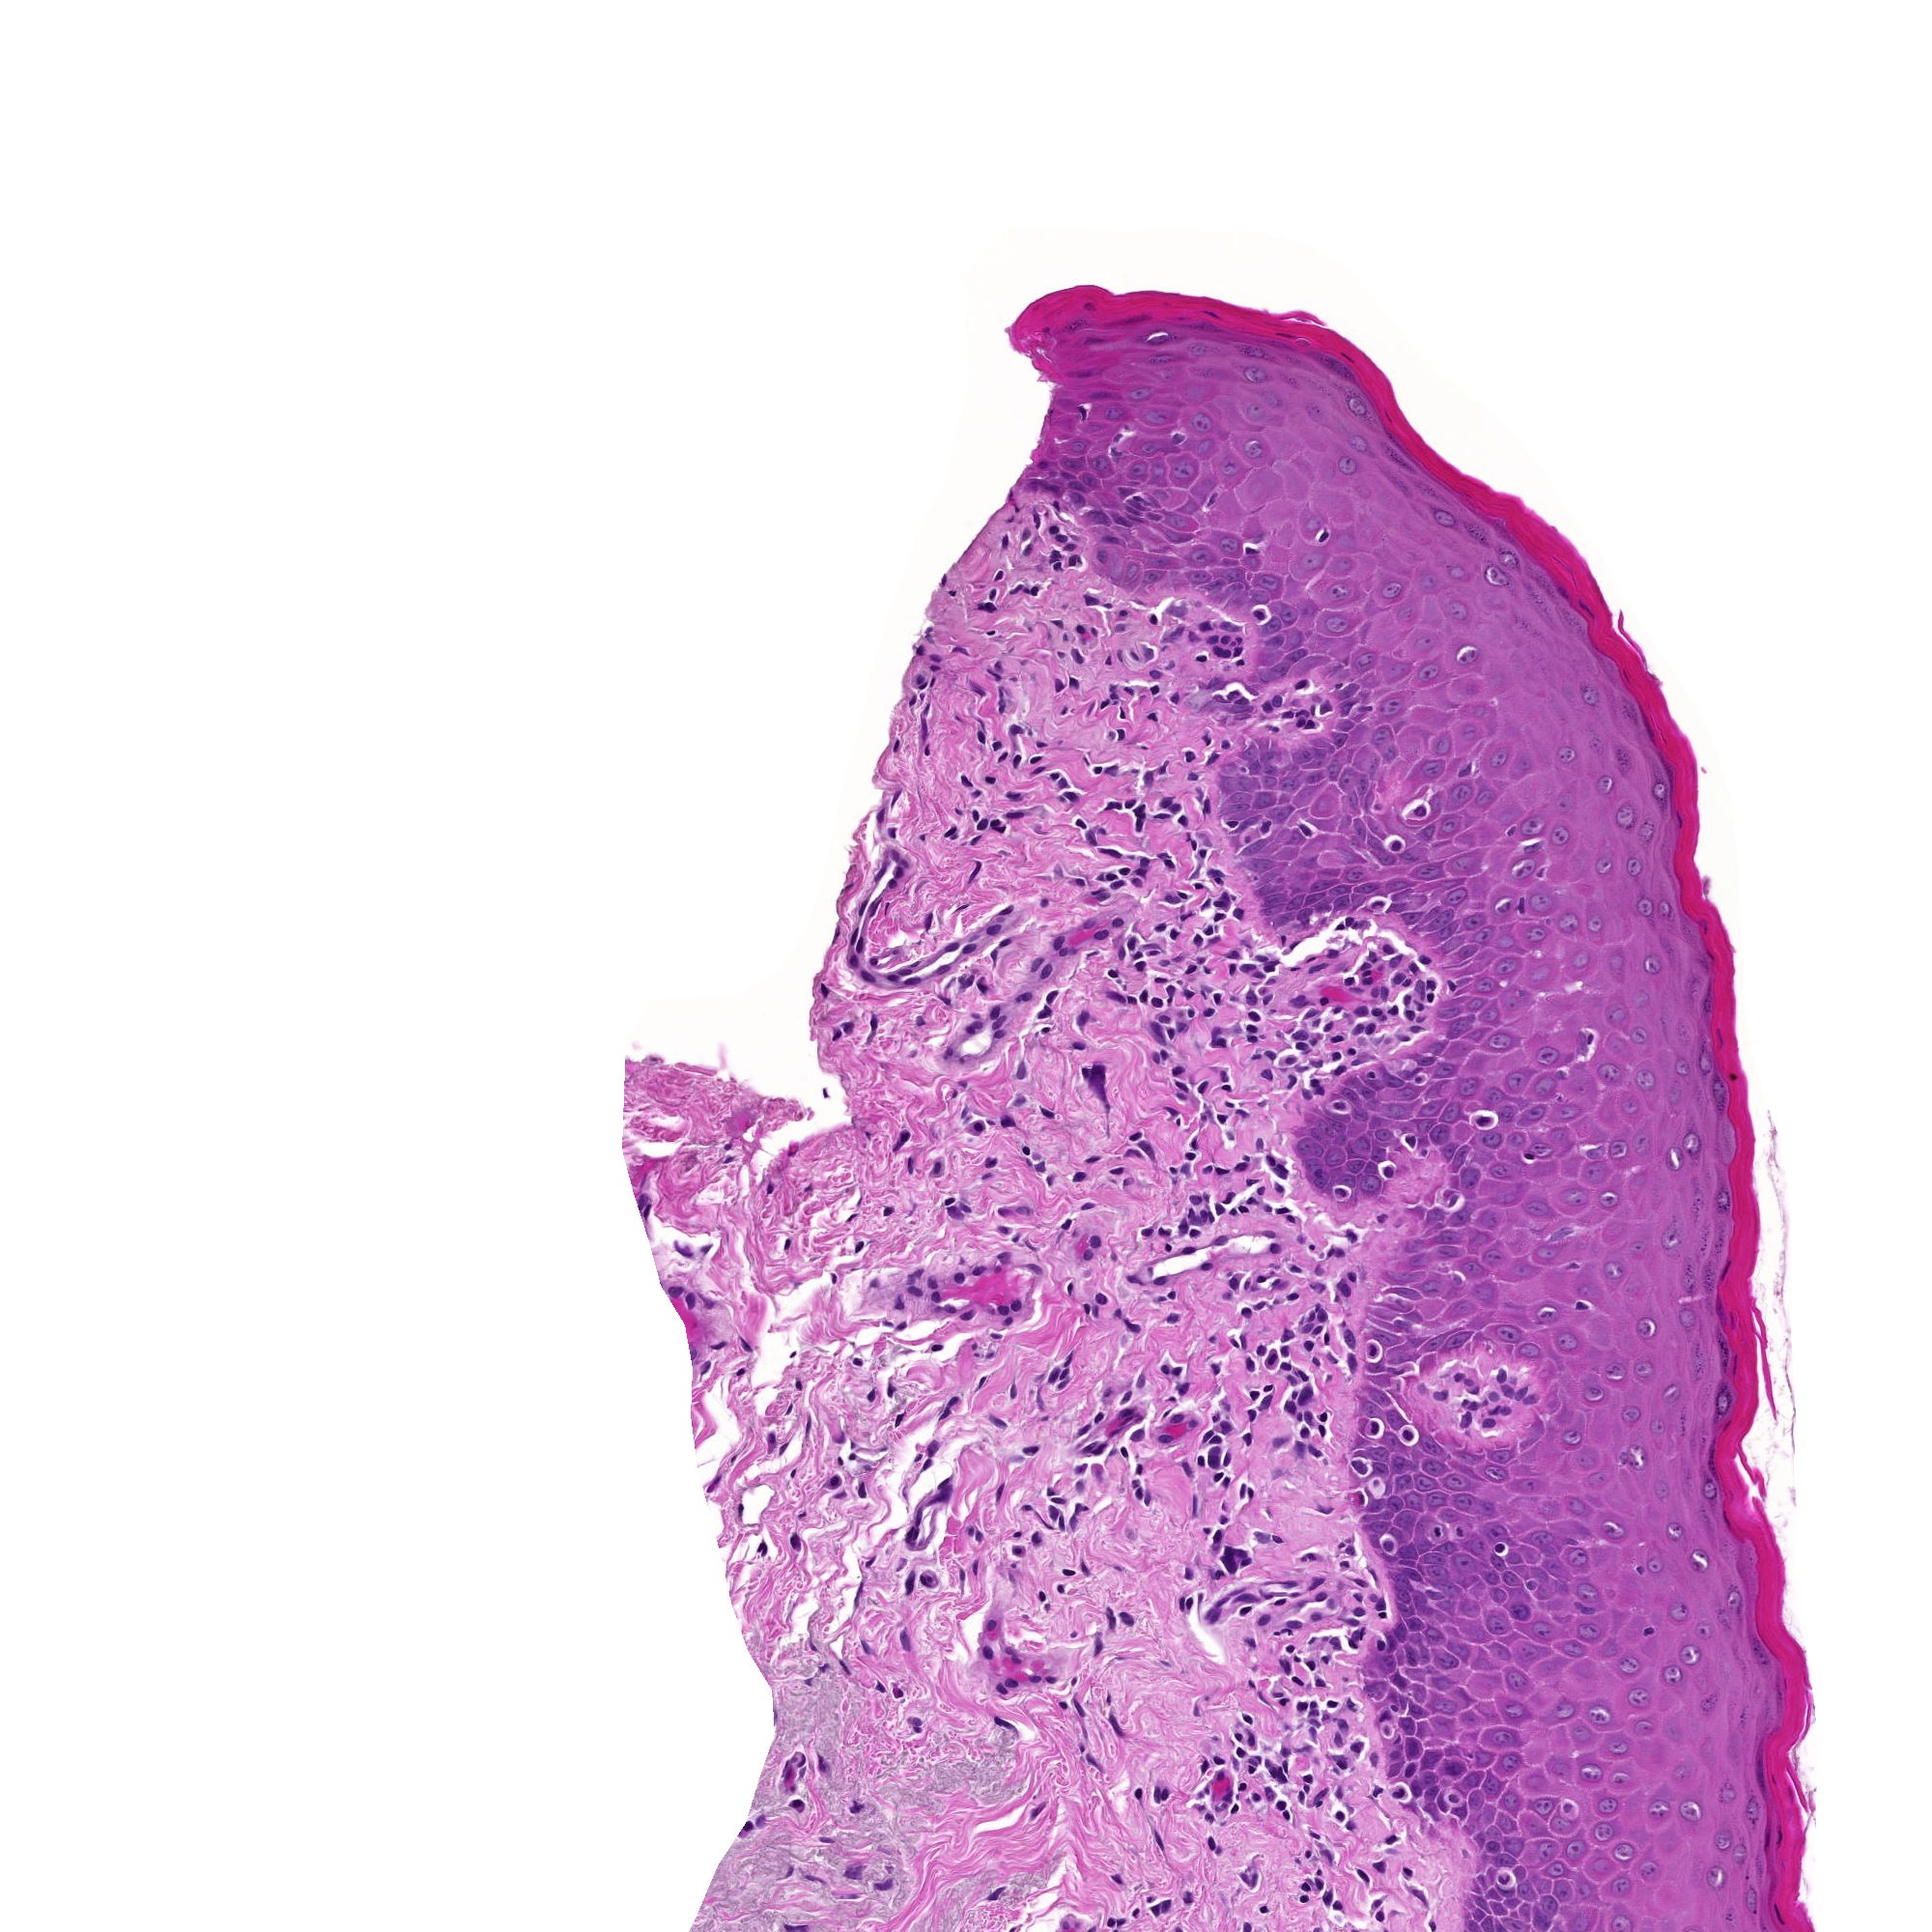epithelial: (1343, 816, 1376, 847), (1707, 1185, 1739, 1219), (1058, 310, 1090, 341), (1141, 324, 1173, 356), (1115, 306, 1146, 338), (1329, 356, 1361, 387), (1378, 428, 1410, 460), (1100, 439, 1132, 471), (1152, 322, 1184, 354), (1120, 456, 1152, 488), (1083, 448, 1115, 479), (1100, 398, 1132, 430), (1120, 488, 1152, 520), (1414, 855, 1445, 886), (1332, 676, 1364, 708), (1330, 686, 1362, 718), (1307, 518, 1339, 550), (1235, 536, 1267, 568), (1086, 540, 1118, 571), (1221, 807, 1253, 839), (1403, 794, 1435, 826), (1300, 885, 1332, 916), (1300, 738, 1332, 770), (1412, 656, 1444, 688), (1265, 653, 1297, 685), (980, 655, 1012, 686), (1384, 872, 1415, 904), (1353, 1069, 1385, 1100), (1419, 1200, 1451, 1231), (1398, 1058, 1430, 1090), (1384, 1067, 1415, 1099), (1391, 1276, 1422, 1307), (1392, 1706, 1424, 1737), (1384, 1615, 1415, 1647), (1401, 1773, 1433, 1805), (1394, 1559, 1426, 1591), (1412, 1766, 1444, 1798), (1343, 1451, 1375, 1483), (1407, 1587, 1438, 1619), (1362, 1509, 1394, 1541), (1401, 1534, 1433, 1566), (1506, 890, 1537, 922), (1461, 518, 1493, 550), (1468, 780, 1500, 812), (1691, 989, 1723, 1021), (1442, 1138, 1474, 1169), (1518, 1097, 1550, 1129), (1514, 1138, 1546, 1169), (1716, 1062, 1748, 1093), (1677, 1136, 1709, 1168), (1500, 1063, 1532, 1095), (1601, 1131, 1633, 1162), (1679, 1125, 1711, 1157), (1744, 1759, 1776, 1790), (1746, 1640, 1778, 1672), (1695, 1468, 1727, 1500), (1481, 1546, 1513, 1578), (1447, 1484, 1479, 1516), (1560, 1833, 1592, 1865), (1228, 692, 1258, 725), (1403, 1592, 1433, 1626), (837, 1856, 867, 1888), (888, 1624, 920, 1654), (771, 1757, 803, 1787), (1318, 349, 1348, 380), (1065, 396, 1097, 426), (1058, 448, 1088, 479), (1077, 324, 1108, 356), (1069, 464, 1100, 494), (1037, 396, 1067, 428), (1309, 345, 1341, 375), (1021, 464, 1051, 495), (1233, 334, 1265, 364), (1242, 433, 1272, 465), (1058, 464, 1090, 494), (1063, 432, 1095, 462), (1373, 421, 1405, 451), (1224, 685, 1254, 717), (1353, 874, 1385, 904), (1095, 522, 1125, 554), (1412, 816, 1442, 847), (1415, 754, 1447, 784), (1185, 541, 1217, 571), (1327, 886, 1357, 918), (1139, 559, 1169, 591), (1044, 929, 1074, 961), (1261, 625, 1292, 656), (1281, 639, 1311, 671), (1217, 679, 1247, 711), (1145, 547, 1175, 579), (1378, 690, 1408, 722), (1254, 740, 1284, 771), (1238, 832, 1269, 863), (1256, 610, 1288, 640), (1212, 529, 1244, 559), (1369, 839, 1401, 869), (1254, 885, 1286, 915), (1253, 755, 1284, 786), (1366, 720, 1398, 750), (1270, 600, 1302, 630), (1267, 798, 1299, 828), (1246, 847, 1276, 879), (1231, 807, 1263, 837), (1095, 502, 1125, 534), (1307, 869, 1339, 899), (1421, 899, 1451, 931), (1304, 1162, 1336, 1192), (1378, 1403, 1410, 1433), (1320, 1106, 1350, 1138), (1421, 1118, 1453, 1148), (1415, 1272, 1447, 1302), (1362, 1138, 1392, 1169), (1361, 1352, 1392, 1382), (1005, 1056, 1037, 1086), (1369, 1322, 1399, 1353), (1398, 1734, 1430, 1764), (1384, 1665, 1415, 1695), (1394, 1642, 1426, 1672), (1415, 1775, 1447, 1805), (1401, 1695, 1431, 1727), (1357, 1672, 1387, 1704), (1399, 1608, 1430, 1640), (1380, 1488, 1410, 1520), (1371, 1640, 1401, 1672), (1419, 1621, 1451, 1651), (1415, 1451, 1447, 1481), (1387, 1566, 1419, 1596), (1419, 1516, 1451, 1546), (1417, 1789, 1449, 1819), (1389, 1576, 1419, 1608), (1398, 1766, 1428, 1798), (1399, 1713, 1431, 1743), (1412, 1582, 1444, 1612), (1391, 1504, 1421, 1536), (1387, 1603, 1417, 1635), (1458, 906, 1488, 938), (1633, 715, 1663, 747), (1454, 642, 1486, 672), (1647, 784, 1679, 814), (1516, 833, 1548, 863), (1663, 805, 1695, 835), (1495, 890, 1525, 922), (1442, 879, 1472, 911), (1691, 941, 1723, 971), (1507, 750, 1539, 780), (1522, 918, 1552, 950), (1444, 1201, 1476, 1231), (1709, 1330, 1739, 1362), (1709, 1376, 1739, 1408), (1454, 1162, 1486, 1192), (1569, 1024, 1601, 1054), (1706, 1398, 1736, 1430), (1706, 1085, 1736, 1116), (1704, 1292, 1734, 1323), (1711, 1343, 1741, 1375), (1532, 1299, 1562, 1330), (1440, 1012, 1472, 1042), (1454, 1253, 1486, 1283), (1709, 1254, 1739, 1286), (1477, 1240, 1507, 1272), (1599, 1353, 1631, 1384), (1474, 1203, 1504, 1235), (1530, 1039, 1562, 1069), (1438, 970, 1468, 1001), (1615, 1399, 1647, 1430), (1504, 1596, 1536, 1626), (1757, 1822, 1789, 1852), (1741, 1631, 1771, 1663), (1497, 1746, 1529, 1776), (1477, 1829, 1507, 1861), (1476, 1769, 1506, 1801), (1486, 1845, 1518, 1875), (1481, 1610, 1511, 1642), (1456, 1764, 1488, 1794), (1527, 1615, 1557, 1647), (1463, 1897, 1495, 1927), (1605, 1870, 1635, 1902), (1736, 1796, 1767, 1826), (1477, 1560, 1507, 1592), (1493, 1562, 1525, 1592), (1447, 1681, 1477, 1713), (1458, 1785, 1490, 1815), (1486, 1833, 1516, 1865), (1592, 1789, 1624, 1819), (920, 648, 950, 678), (913, 619, 943, 649), (934, 1037, 964, 1067), (676, 1143, 706, 1173), (1028, 449, 1058, 479), (1161, 425, 1191, 455), (1085, 380, 1115, 410), (1191, 311, 1221, 341), (1074, 290, 1104, 320), (1143, 343, 1173, 373), (1214, 449, 1244, 479), (1380, 441, 1410, 471), (1085, 501, 1115, 531), (1290, 816, 1320, 846), (1162, 522, 1192, 552), (1288, 901, 1318, 931), (1396, 902, 1426, 932), (1290, 741, 1320, 771), (1063, 483, 1093, 513), (1350, 648, 1380, 678), (1200, 669, 1230, 699), (1247, 786, 1277, 816), (1387, 835, 1417, 865), (1339, 860, 1369, 890), (1394, 840, 1424, 870), (1118, 499, 1148, 529), (1201, 570, 1231, 600), (1299, 763, 1329, 793), (1375, 738, 1405, 768), (1221, 563, 1251, 593), (1184, 563, 1214, 593), (1376, 1065, 1407, 1095), (1362, 1063, 1392, 1093), (1410, 1046, 1440, 1076), (1334, 1079, 1364, 1109), (1341, 1152, 1371, 1182), (1290, 1131, 1320, 1161), (1366, 1118, 1396, 1148), (1385, 1309, 1415, 1339), (1415, 1744, 1445, 1775), (1371, 1629, 1401, 1660), (1394, 1718, 1424, 1748), (1394, 1755, 1424, 1785), (1364, 1453, 1394, 1483), (1380, 1624, 1410, 1654), (1392, 1539, 1422, 1569), (1387, 1736, 1417, 1766), (1361, 1490, 1391, 1520), (1389, 1467, 1419, 1497), (1382, 1684, 1412, 1714), (1410, 1737, 1440, 1767), (1608, 743, 1638, 773), (1546, 577, 1576, 607), (1451, 938, 1481, 968), (1652, 754, 1683, 784), (1569, 593, 1599, 623), (1486, 513, 1516, 543), (1615, 695, 1645, 725), (1516, 809, 1546, 839), (1629, 708, 1660, 738), (1490, 1099, 1520, 1129), (1495, 1320, 1525, 1350), (1476, 1123, 1506, 1154), (1442, 1323, 1472, 1353), (1706, 1385, 1736, 1415), (1578, 1375, 1608, 1405), (1477, 1081, 1507, 1111), (1470, 970, 1500, 1000), (1688, 1035, 1718, 1065), (1522, 1192, 1552, 1223), (1594, 1185, 1624, 1215), (1594, 1060, 1624, 1090), (1707, 1177, 1737, 1207), (1438, 1753, 1468, 1783), (1445, 1796, 1476, 1826), (1479, 1518, 1509, 1548), (1472, 1493, 1502, 1523), (1697, 1449, 1727, 1479), (1490, 1877, 1520, 1907), (1493, 1721, 1523, 1752), (1527, 1525, 1557, 1555), (1594, 1516, 1624, 1546), (1762, 1898, 1792, 1928), (1569, 1592, 1599, 1622), (1711, 1506, 1741, 1536), (1500, 1667, 1530, 1697), (1444, 1635, 1474, 1665), (1693, 1688, 1723, 1718), (1546, 1877, 1576, 1907), (1683, 1548, 1713, 1578), (1721, 1591, 1752, 1621), (1325, 722, 1353, 754), (1108, 506, 1139, 534), (1240, 748, 1269, 780), (1373, 1451, 1405, 1479), (1444, 778, 1476, 807), (1504, 1859, 1536, 1888), (1069, 359, 1099, 387), (1125, 304, 1154, 334), (1253, 568, 1283, 596), (1293, 594, 1322, 625), (1384, 1451, 1414, 1479), (1451, 757, 1479, 787), (1629, 1315, 1660, 1343), (1454, 1072, 1484, 1100), (1702, 1072, 1732, 1100), (1472, 1277, 1500, 1307)
fibroblast and endothelial: (692, 1286, 725, 1318), (1157, 1016, 1191, 1047), (1169, 1224, 1203, 1256), (1148, 1352, 1180, 1385), (1125, 1364, 1157, 1398), (1196, 1599, 1230, 1631), (936, 816, 968, 847), (879, 863, 911, 895), (837, 941, 869, 973), (878, 839, 909, 870), (879, 729, 911, 761), (879, 780, 911, 812), (830, 918, 862, 950), (920, 1152, 952, 1184), (872, 1194, 904, 1226), (628, 1192, 660, 1224), (916, 1267, 948, 1299), (755, 1421, 787, 1453), (904, 1005, 936, 1037), (835, 1201, 867, 1233), (846, 1474, 878, 1506), (747, 1532, 778, 1564), (828, 1651, 860, 1683), (697, 1467, 729, 1499), (899, 1509, 931, 1541), (904, 1442, 936, 1474), (778, 1456, 810, 1488), (842, 1578, 874, 1610), (849, 1631, 881, 1663), (1056, 667, 1088, 699), (1040, 517, 1072, 548), (1099, 862, 1131, 893), (1000, 713, 1031, 745), (1108, 789, 1139, 821), (1290, 708, 1322, 740), (987, 927, 1019, 959), (1044, 669, 1076, 701), (1065, 614, 1097, 646), (1074, 584, 1106, 616), (962, 812, 994, 844), (1201, 628, 1233, 660), (1251, 941, 1283, 973), (1362, 938, 1394, 970), (1159, 681, 1191, 713), (1316, 938, 1348, 970), (1106, 697, 1138, 729), (1192, 639, 1224, 671), (959, 823, 991, 855), (1208, 623, 1240, 655), (1031, 508, 1063, 540), (1212, 612, 1244, 644), (1042, 607, 1074, 639), (1023, 754, 1054, 786), (975, 617, 1007, 649), (1054, 533, 1086, 564), (1003, 573, 1035, 605), (1169, 899, 1201, 931), (1051, 768, 1083, 800), (1141, 791, 1173, 823), (982, 920, 1014, 952), (1077, 1056, 1109, 1088), (1182, 1182, 1214, 1214), (991, 1106, 1023, 1138), (1307, 1410, 1339, 1442), (1336, 1221, 1368, 1253), (962, 1111, 994, 1143), (1205, 1192, 1237, 1224), (973, 1146, 1005, 1178), (1044, 1361, 1076, 1392), (1035, 980, 1067, 1012), (1198, 1421, 1230, 1453), (1185, 1072, 1217, 1104), (1118, 1120, 1150, 1152), (1233, 1414, 1265, 1445), (1214, 1154, 1246, 1185), (1384, 962, 1415, 994), (1178, 1200, 1210, 1231), (1233, 1263, 1265, 1295), (1074, 1293, 1106, 1325), (1261, 1192, 1293, 1224), (1026, 1152, 1058, 1184), (1200, 1352, 1231, 1384), (1251, 1058, 1283, 1090), (982, 1016, 1014, 1047), (982, 1405, 1014, 1437), (1254, 1265, 1286, 1297), (1292, 1023, 1323, 1054), (1030, 1007, 1062, 1039), (1162, 1364, 1194, 1396), (1277, 1357, 1309, 1389), (1076, 1143, 1108, 1175), (1224, 1325, 1256, 1357), (1148, 1001, 1180, 1033), (1286, 1030, 1318, 1062), (989, 1214, 1021, 1246), (1100, 1378, 1132, 1410), (1194, 1154, 1226, 1185), (1274, 1044, 1306, 1076), (1102, 1299, 1134, 1330), (1162, 1154, 1194, 1185), (1341, 1007, 1373, 1039), (1201, 1403, 1233, 1435), (1191, 1099, 1223, 1131), (1366, 1201, 1398, 1233), (1269, 1272, 1300, 1304), (1392, 968, 1424, 1000), (1277, 1332, 1309, 1364), (1191, 1184, 1223, 1215), (1205, 1461, 1237, 1493), (1194, 1444, 1226, 1476), (1288, 1882, 1320, 1914), (1201, 1520, 1233, 1552), (1318, 1888, 1350, 1920), (1201, 1559, 1233, 1591), (1231, 1476, 1263, 1507), (1024, 1663, 1056, 1695), (1230, 1582, 1261, 1614), (1284, 1688, 1316, 1720), (1304, 1667, 1336, 1698), (1219, 1792, 1251, 1824), (1044, 1504, 1076, 1536), (1325, 1626, 1357, 1658), (1330, 1805, 1362, 1836), (1083, 1631, 1115, 1663), (1044, 1571, 1076, 1603), (1269, 1736, 1300, 1767), (1100, 1863, 1132, 1895), (1246, 1748, 1277, 1780), (982, 1635, 1014, 1667), (1203, 1534, 1235, 1566), (961, 1518, 993, 1550), (1269, 1748, 1300, 1780), (1261, 1523, 1293, 1555), (1311, 1695, 1343, 1727), (1108, 1437, 1139, 1468), (1063, 1479, 1095, 1511), (1184, 1557, 1215, 1589), (1322, 1776, 1353, 1808), (1054, 1488, 1086, 1520), (1246, 1522, 1277, 1553), (1451, 1403, 1483, 1435), (823, 1017, 853, 1051), (1040, 529, 1070, 563), (1185, 837, 1219, 867), (1132, 761, 1162, 794), (1180, 614, 1214, 644), (1159, 1353, 1189, 1387), (1258, 1753, 1288, 1787), (906, 665, 936, 697), (858, 890, 888, 922), (936, 931, 968, 961), (844, 929, 874, 961), (867, 858, 899, 888), (878, 816, 908, 847), (847, 890, 878, 922), (865, 800, 895, 832), (897, 685, 929, 715), (839, 922, 870, 952), (938, 577, 968, 609), (929, 566, 961, 596), (856, 941, 886, 973), (821, 918, 851, 950), (908, 713, 939, 743), (878, 830, 908, 862), (885, 846, 916, 876), (911, 734, 943, 764), (909, 692, 941, 722), (916, 660, 947, 692), (832, 872, 862, 904), (908, 702, 939, 732), (881, 962, 913, 993), (851, 961, 881, 993), (901, 1274, 931, 1306), (858, 1007, 888, 1039), (897, 964, 927, 996), (847, 1008, 879, 1039), (725, 1357, 757, 1387), (920, 1332, 952, 1362), (832, 1012, 862, 1044), (855, 1380, 886, 1410), (883, 1403, 915, 1433), (731, 1329, 761, 1361), (842, 1346, 874, 1376), (920, 1279, 952, 1309), (771, 1228, 803, 1258), (901, 1261, 931, 1293), (702, 1330, 734, 1361), (784, 1368, 814, 1399), (886, 1309, 916, 1341), (669, 1237, 701, 1267), (885, 1288, 915, 1320), (941, 1261, 971, 1293), (686, 1233, 718, 1263), (754, 1173, 786, 1203), (883, 1129, 915, 1159), (817, 1263, 849, 1293), (793, 1173, 823, 1205), (893, 1568, 925, 1598), (897, 1518, 927, 1550), (911, 1564, 943, 1594), (780, 1789, 812, 1819), (780, 1525, 810, 1557), (867, 1672, 897, 1704), (805, 1750, 837, 1780), (883, 1677, 915, 1707), (902, 1500, 932, 1532), (725, 1493, 755, 1525), (901, 1707, 931, 1739), (832, 1442, 863, 1472), (869, 1870, 899, 1902), (855, 1546, 886, 1576), (904, 1571, 936, 1601), (743, 1805, 775, 1835), (824, 1445, 856, 1476), (1123, 798, 1154, 830), (1012, 575, 1044, 605), (982, 810, 1012, 842), (1097, 791, 1129, 821), (971, 591, 1001, 623), (1141, 847, 1173, 878), (1056, 545, 1088, 575), (1085, 754, 1115, 786), (971, 809, 1003, 839), (998, 780, 1028, 812), (1145, 801, 1177, 832), (1191, 610, 1221, 642), (1152, 789, 1184, 819), (1207, 886, 1238, 916), (1336, 908, 1368, 938), (961, 796, 991, 828), (1051, 524, 1081, 556), (1152, 846, 1182, 878), (1205, 637, 1237, 667), (1001, 743, 1031, 775), (1373, 934, 1405, 964), (1221, 899, 1253, 929), (1085, 879, 1116, 909), (980, 938, 1010, 970), (973, 763, 1005, 793), (1173, 740, 1203, 771), (1044, 764, 1076, 794), (1219, 939, 1251, 970), (1201, 858, 1231, 890), (1129, 849, 1161, 879), (1260, 688, 1290, 720), (1065, 865, 1095, 897), (1019, 745, 1051, 775), (1093, 685, 1125, 715), (977, 915, 1007, 947), (977, 579, 1007, 610), (991, 895, 1021, 927), (1076, 823, 1106, 855), (1095, 754, 1125, 786), (1100, 908, 1132, 938), (1047, 545, 1077, 577), (1106, 869, 1138, 899), (1106, 718, 1136, 750), (1021, 502, 1051, 534), (1191, 791, 1221, 823), (961, 855, 993, 885), (1408, 943, 1440, 973), (1200, 614, 1230, 646), (1196, 623, 1226, 655), (1194, 888, 1224, 920), (993, 740, 1023, 771), (1196, 743, 1228, 773), (1063, 807, 1095, 837), (1040, 490, 1072, 520), (1035, 759, 1065, 791), (1111, 676, 1143, 706), (1219, 632, 1251, 662), (1178, 830, 1210, 860), (962, 674, 993, 706), (1122, 809, 1154, 839), (961, 784, 991, 816), (1146, 754, 1178, 784), (1159, 794, 1191, 824), (1201, 725, 1231, 757), (1118, 925, 1148, 957), (1097, 678, 1129, 708), (1277, 929, 1307, 961), (985, 690, 1017, 720), (1129, 637, 1161, 667), (1106, 938, 1136, 970), (1079, 863, 1111, 893), (1122, 674, 1152, 706), (1028, 886, 1058, 918), (1037, 552, 1069, 582), (1240, 692, 1272, 722), (1134, 984, 1164, 1016), (1100, 982, 1132, 1012), (1178, 1215, 1208, 1247), (1226, 1192, 1256, 1224), (1272, 1200, 1304, 1230), (1265, 1154, 1295, 1185), (991, 1295, 1023, 1325), (1203, 1026, 1233, 1058), (1189, 1201, 1221, 1231), (1169, 1210, 1200, 1242), (1007, 982, 1039, 1012), (1031, 1099, 1063, 1129), (966, 971, 998, 1001), (1394, 998, 1426, 1028), (1274, 1392, 1306, 1422), (1322, 1023, 1352, 1054), (1286, 1361, 1318, 1391), (1256, 1343, 1286, 1375), (1030, 996, 1060, 1028), (1256, 1146, 1286, 1178), (1290, 1380, 1322, 1410), (1063, 1161, 1095, 1191), (1131, 1132, 1162, 1162), (1414, 982, 1444, 1014), (1146, 1040, 1177, 1072), (1205, 1102, 1237, 1132), (1352, 1012, 1382, 1044), (1300, 1069, 1330, 1100), (1256, 1228, 1288, 1258), (1162, 1058, 1192, 1090), (980, 996, 1010, 1028), (1288, 985, 1320, 1016), (1238, 1169, 1269, 1201), (1079, 1226, 1111, 1256), (1145, 1265, 1177, 1295), (1145, 1016, 1175, 1047), (978, 1109, 1010, 1139), (1178, 1131, 1208, 1162), (1157, 1302, 1189, 1332), (1235, 982, 1267, 1012), (1290, 1401, 1322, 1431), (1329, 1274, 1361, 1304), (1203, 982, 1233, 1014), (1109, 1389, 1141, 1419), (1233, 1348, 1265, 1378), (1322, 1049, 1353, 1079), (1122, 1419, 1154, 1449), (1320, 1235, 1350, 1267), (1338, 1346, 1368, 1378), (1054, 1274, 1086, 1304), (1143, 964, 1175, 994), (1067, 1003, 1099, 1033), (962, 1254, 993, 1286), (1309, 1320, 1339, 1352), (1085, 1069, 1115, 1100), (1053, 1208, 1083, 1240), (1414, 970, 1444, 1001), (1265, 1389, 1297, 1419), (1263, 1173, 1295, 1203), (1083, 1401, 1115, 1431), (1364, 982, 1394, 1014), (1203, 1070, 1235, 1100), (1295, 1076, 1325, 1108), (1062, 1031, 1093, 1062), (1152, 1231, 1184, 1261), (1334, 1263, 1364, 1295), (1102, 1155, 1134, 1185), (1053, 1345, 1083, 1376), (1302, 1307, 1332, 1339), (1097, 959, 1129, 989), (1205, 1224, 1237, 1254), (959, 968, 989, 1000), (1210, 1063, 1240, 1095), (1276, 1065, 1307, 1095), (1297, 1315, 1329, 1345), (1300, 1327, 1332, 1357), (961, 1010, 991, 1042), (1116, 1138, 1148, 1168), (1279, 1380, 1309, 1412), (1299, 1346, 1330, 1376), (1283, 1019, 1313, 1051), (1100, 970, 1131, 1001), (1350, 964, 1380, 996), (1226, 1097, 1256, 1129), (1247, 984, 1279, 1014), (987, 1194, 1017, 1226), (1299, 1000, 1329, 1031), (1302, 1054, 1332, 1086), (1242, 1290, 1274, 1320), (980, 1007, 1012, 1037), (1024, 980, 1056, 1010), (1407, 975, 1437, 1007), (1001, 1194, 1033, 1224), (966, 1366, 996, 1398), (1201, 1208, 1231, 1240), (1162, 1385, 1194, 1415), (1279, 1398, 1311, 1428), (1212, 1541, 1244, 1571), (1111, 1603, 1143, 1633), (1146, 1778, 1177, 1810), (1339, 1624, 1369, 1656), (1223, 1539, 1254, 1569), (1122, 1778, 1154, 1808), (1097, 1603, 1129, 1633), (1123, 1465, 1154, 1497), (1171, 1587, 1203, 1617), (985, 1706, 1016, 1737), (1215, 1550, 1246, 1582), (1267, 1790, 1297, 1822), (1207, 1442, 1238, 1472), (1348, 1859, 1378, 1891), (1145, 1893, 1177, 1923), (1230, 1545, 1261, 1575), (1237, 1750, 1267, 1782), (1099, 1709, 1131, 1739), (971, 1637, 1001, 1668), (1304, 1870, 1334, 1902), (1051, 1690, 1083, 1720), (991, 1670, 1021, 1702), (1293, 1649, 1325, 1679), (1039, 1497, 1069, 1529), (1293, 1782, 1325, 1812), (1173, 1882, 1203, 1914), (1123, 1453, 1154, 1484), (1053, 1557, 1085, 1587), (1196, 1829, 1228, 1859), (1339, 1732, 1371, 1762), (1203, 1744, 1233, 1776), (1235, 1723, 1265, 1755), (980, 1877, 1010, 1909), (1069, 1552, 1099, 1583), (1007, 1665, 1039, 1695), (1345, 1619, 1376, 1649), (1267, 1684, 1299, 1714), (1021, 1522, 1051, 1553), (1171, 1559, 1203, 1589), (1343, 1599, 1375, 1629), (1039, 1479, 1069, 1511), (1026, 1580, 1056, 1612), (1247, 1603, 1279, 1633), (1143, 1824, 1173, 1856), (1063, 1693, 1095, 1723), (998, 1640, 1028, 1672), (975, 1610, 1007, 1640), (1021, 1794, 1051, 1826), (1056, 1504, 1086, 1536), (1306, 1580, 1336, 1612), (1327, 1709, 1359, 1739), (1212, 1780, 1242, 1812), (1065, 1453, 1095, 1484), (1295, 1539, 1325, 1571), (1235, 1865, 1267, 1895), (984, 1476, 1014, 1507), (1136, 1897, 1168, 1927), (1338, 1606, 1369, 1637), (1403, 1879, 1433, 1911), (1281, 1764, 1313, 1794), (1263, 1771, 1293, 1803), (1300, 1656, 1330, 1688), (1274, 1568, 1304, 1599), (1311, 1840, 1343, 1870), (1256, 1582, 1286, 1614), (1077, 1744, 1108, 1776), (1000, 1660, 1030, 1691), (1203, 1591, 1233, 1622), (1217, 1741, 1247, 1773), (1012, 1491, 1044, 1522), (1171, 1573, 1201, 1605), (1097, 1900, 1129, 1930), (1293, 1838, 1323, 1870), (1394, 1780, 1426, 1810), (1300, 1437, 1330, 1468), (1332, 1537, 1362, 1569), (959, 1552, 991, 1582), (1378, 1852, 1410, 1882), (1300, 1836, 1332, 1867), (1484, 1394, 1514, 1426), (1456, 1389, 1486, 1421), (1444, 1362, 1476, 1392), (1495, 1376, 1527, 1407), (1477, 1399, 1507, 1431), (885, 856, 915, 886), (904, 635, 934, 665), (913, 906, 943, 936), (867, 888, 897, 918), (888, 1122, 918, 1152), (809, 975, 839, 1005), (676, 1284, 706, 1315), (669, 1279, 699, 1309), (876, 1375, 906, 1405), (844, 1231, 874, 1261), (660, 1276, 690, 1306), (936, 1389, 966, 1419), (936, 1191, 966, 1221), (931, 1396, 961, 1426), (895, 1148, 925, 1178), (934, 1293, 964, 1323), (690, 1352, 720, 1382), (931, 985, 961, 1016), (929, 1474, 959, 1504), (732, 1812, 763, 1842), (911, 1447, 941, 1477), (840, 1792, 870, 1822), (786, 1748, 816, 1778), (809, 1652, 839, 1683), (1000, 800, 1030, 830), (1040, 541, 1070, 571), (1122, 941, 1152, 971), (1097, 837, 1127, 867), (1118, 793, 1148, 823), (1056, 782, 1086, 812), (1139, 671, 1169, 701), (1166, 803, 1196, 833), (1185, 644, 1215, 674), (1063, 642, 1093, 672), (966, 722, 996, 752), (1069, 814, 1099, 844), (1138, 701, 1168, 731), (1162, 881, 1192, 911), (1086, 918, 1116, 948), (1327, 909, 1357, 939), (991, 805, 1021, 835), (1138, 934, 1168, 964), (1024, 729, 1054, 759), (1177, 623, 1207, 653), (1161, 617, 1191, 648), (1162, 911, 1192, 941), (1116, 849, 1146, 879), (1353, 941, 1384, 971), (1138, 1215, 1168, 1246), (1111, 984, 1141, 1014), (1205, 1155, 1235, 1185), (1001, 1290, 1031, 1320), (1168, 1373, 1198, 1403), (1173, 1235, 1203, 1265), (1200, 1200, 1230, 1230), (1010, 1134, 1040, 1164), (1238, 1001, 1269, 1031), (1116, 1311, 1146, 1341), (1362, 998, 1392, 1028), (1136, 1265, 1166, 1295), (1334, 966, 1364, 996), (1148, 1217, 1178, 1247), (1086, 1283, 1116, 1313), (1237, 1017, 1267, 1047), (1214, 1182, 1244, 1212), (1272, 1322, 1302, 1352), (1155, 975, 1185, 1005), (1191, 1251, 1221, 1281), (1346, 996, 1376, 1026), (1111, 1399, 1141, 1430), (1235, 1399, 1265, 1430), (1306, 1299, 1336, 1329), (1175, 998, 1205, 1028), (1231, 1297, 1261, 1327), (1157, 1097, 1187, 1127), (1207, 1410, 1237, 1440), (1359, 1008, 1389, 1039), (1226, 1152, 1256, 1182), (1155, 1279, 1185, 1309), (1118, 1263, 1148, 1293), (1164, 1403, 1194, 1433), (1069, 1415, 1099, 1445), (1329, 1323, 1359, 1353), (1146, 993, 1177, 1023), (1253, 1373, 1283, 1403), (1166, 1012, 1196, 1042), (1150, 1422, 1180, 1453), (1177, 1408, 1207, 1438), (993, 1304, 1023, 1334), (1405, 991, 1435, 1021), (1072, 1191, 1102, 1221), (987, 1242, 1017, 1272), (1336, 994, 1366, 1024), (1072, 1240, 1102, 1270), (1100, 1415, 1131, 1445), (1088, 1079, 1118, 1109), (1185, 977, 1215, 1007), (1265, 1759, 1295, 1789), (1272, 1649, 1302, 1679), (1290, 1874, 1320, 1904), (1364, 1591, 1394, 1621), (1376, 1824, 1407, 1854), (1123, 1477, 1154, 1507), (1171, 1453, 1201, 1483), (1274, 1633, 1304, 1663), (1247, 1780, 1277, 1810), (1392, 1856, 1422, 1886), (1304, 1783, 1334, 1813), (1295, 1693, 1325, 1723), (1364, 1851, 1394, 1881), (1300, 1568, 1330, 1598), (1233, 1707, 1263, 1737), (1327, 1748, 1357, 1778), (1361, 1776, 1391, 1806), (1364, 1898, 1394, 1928), (1065, 1493, 1095, 1523), (1272, 1798, 1302, 1828), (1192, 1801, 1223, 1831), (1231, 1744, 1261, 1775), (1235, 1628, 1265, 1658), (1205, 1760, 1235, 1790), (1277, 1610, 1307, 1640), (1369, 1700, 1399, 1730), (1035, 1665, 1065, 1695), (1300, 1601, 1330, 1631), (1256, 1778, 1286, 1808), (1362, 1888, 1392, 1918), (1261, 1783, 1292, 1813), (1323, 1720, 1353, 1750), (1161, 1888, 1191, 1918), (1315, 1780, 1345, 1810), (1474, 1407, 1504, 1437), (1486, 1361, 1516, 1391), (925, 1483, 957, 1511), (1125, 858, 1154, 890), (1168, 1070, 1196, 1102), (1111, 1419, 1143, 1447), (1315, 1882, 1343, 1914), (1283, 1665, 1311, 1697), (1293, 1762, 1322, 1794), (1200, 1456, 1231, 1484), (821, 1467, 849, 1497), (989, 527, 1019, 556), (1272, 925, 1300, 955), (1251, 1387, 1281, 1415), (1219, 1267, 1247, 1297), (1288, 1776, 1318, 1805)
lymphocyte: (1265, 1587, 1299, 1619), (980, 729, 1012, 761), (1109, 931, 1141, 962), (1361, 888, 1392, 920), (1191, 722, 1223, 754), (1014, 513, 1046, 545), (1378, 994, 1410, 1026), (1267, 1336, 1299, 1368), (1288, 1415, 1320, 1447), (1076, 1408, 1108, 1440), (1316, 991, 1348, 1023), (1306, 1046, 1338, 1077), (1247, 1893, 1279, 1925), (1223, 1720, 1254, 1752), (1242, 1178, 1276, 1208), (711, 1139, 743, 1169), (1244, 598, 1274, 630), (1380, 830, 1412, 860), (1203, 901, 1233, 932), (1251, 810, 1281, 842), (1138, 603, 1169, 633), (1145, 911, 1175, 943), (1182, 870, 1214, 901), (1223, 644, 1254, 674), (1010, 531, 1042, 561), (1184, 740, 1215, 770), (1309, 692, 1339, 724), (982, 561, 1014, 591), (1139, 658, 1169, 690), (998, 529, 1028, 561), (1177, 757, 1207, 789), (1162, 605, 1192, 637), (1242, 807, 1272, 839), (1238, 1378, 1269, 1410), (1357, 1336, 1389, 1366), (1322, 1039, 1352, 1070), (1391, 984, 1422, 1014), (1192, 996, 1223, 1028), (1270, 1350, 1300, 1382), (1336, 1035, 1366, 1067), (1309, 984, 1339, 1016), (1392, 1419, 1422, 1451), (1394, 1125, 1426, 1155), (1325, 1177, 1357, 1207), (1253, 1039, 1283, 1070), (1237, 1184, 1267, 1215), (1148, 978, 1178, 1010), (1235, 1148, 1267, 1178), (1369, 973, 1399, 1005), (1230, 1594, 1261, 1624), (1184, 1445, 1215, 1476), (1384, 1778, 1415, 1808), (1325, 1799, 1355, 1831), (1332, 1690, 1364, 1720), (1309, 1644, 1341, 1674), (1371, 1530, 1403, 1560), (1345, 1566, 1375, 1598), (1329, 1548, 1359, 1580), (1208, 1504, 1238, 1536), (1007, 1520, 1039, 1550), (1378, 1594, 1408, 1626), (1467, 1106, 1499, 1136), (1484, 1530, 1514, 1562), (1444, 1516, 1476, 1546), (1159, 918, 1189, 948), (1109, 856, 1139, 886), (1182, 924, 1212, 954), (1286, 669, 1316, 699), (1191, 916, 1221, 947), (1108, 602, 1138, 632), (1210, 729, 1240, 759), (1272, 699, 1302, 729), (964, 768, 994, 798), (1307, 1401, 1338, 1431), (1246, 1334, 1276, 1364), (1173, 978, 1203, 1008), (1293, 1330, 1323, 1361), (1175, 1141, 1205, 1171), (1359, 1412, 1389, 1442), (1125, 982, 1155, 1012), (1323, 1090, 1353, 1120), (1277, 1281, 1307, 1311), (1246, 1263, 1276, 1293), (1373, 1157, 1403, 1187), (1313, 1012, 1343, 1042), (1279, 1254, 1309, 1284), (1224, 1737, 1254, 1767), (1194, 1748, 1224, 1778), (1316, 1688, 1346, 1718), (1003, 1534, 1033, 1564), (1226, 1771, 1256, 1801), (1343, 1576, 1373, 1606), (1120, 1897, 1150, 1927), (1566, 1290, 1596, 1320), (1488, 1865, 1518, 1895), (1633, 1615, 1663, 1645)
